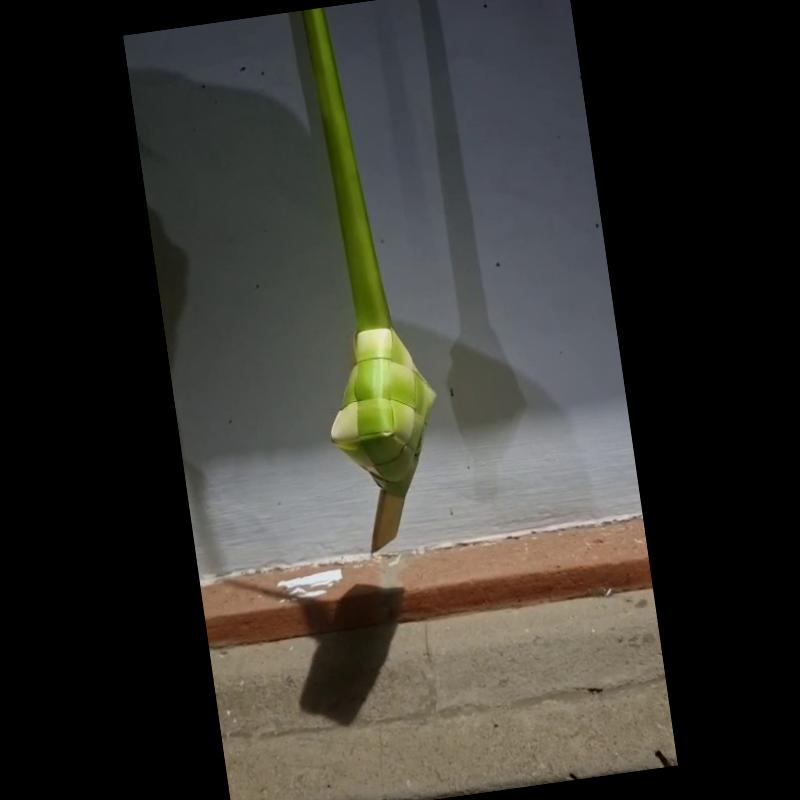Tipat Nasi: (324, 319, 449, 553)
